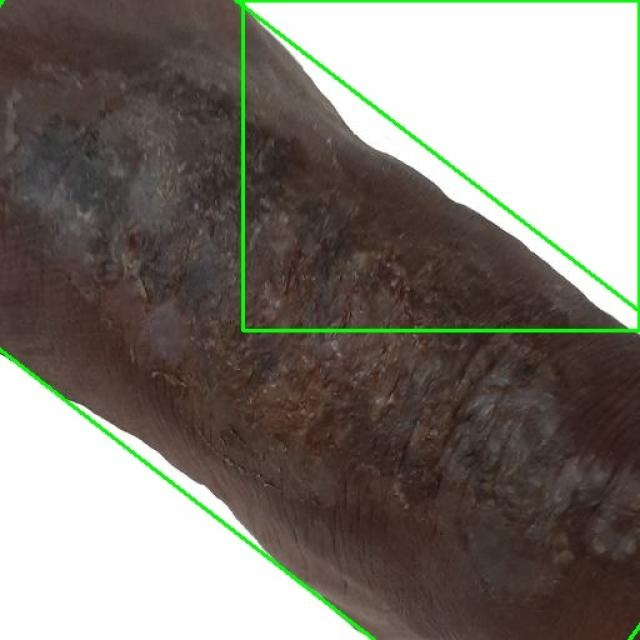Contact Dermatitis: (0, 0, 640, 640), (242, 0, 639, 330)
